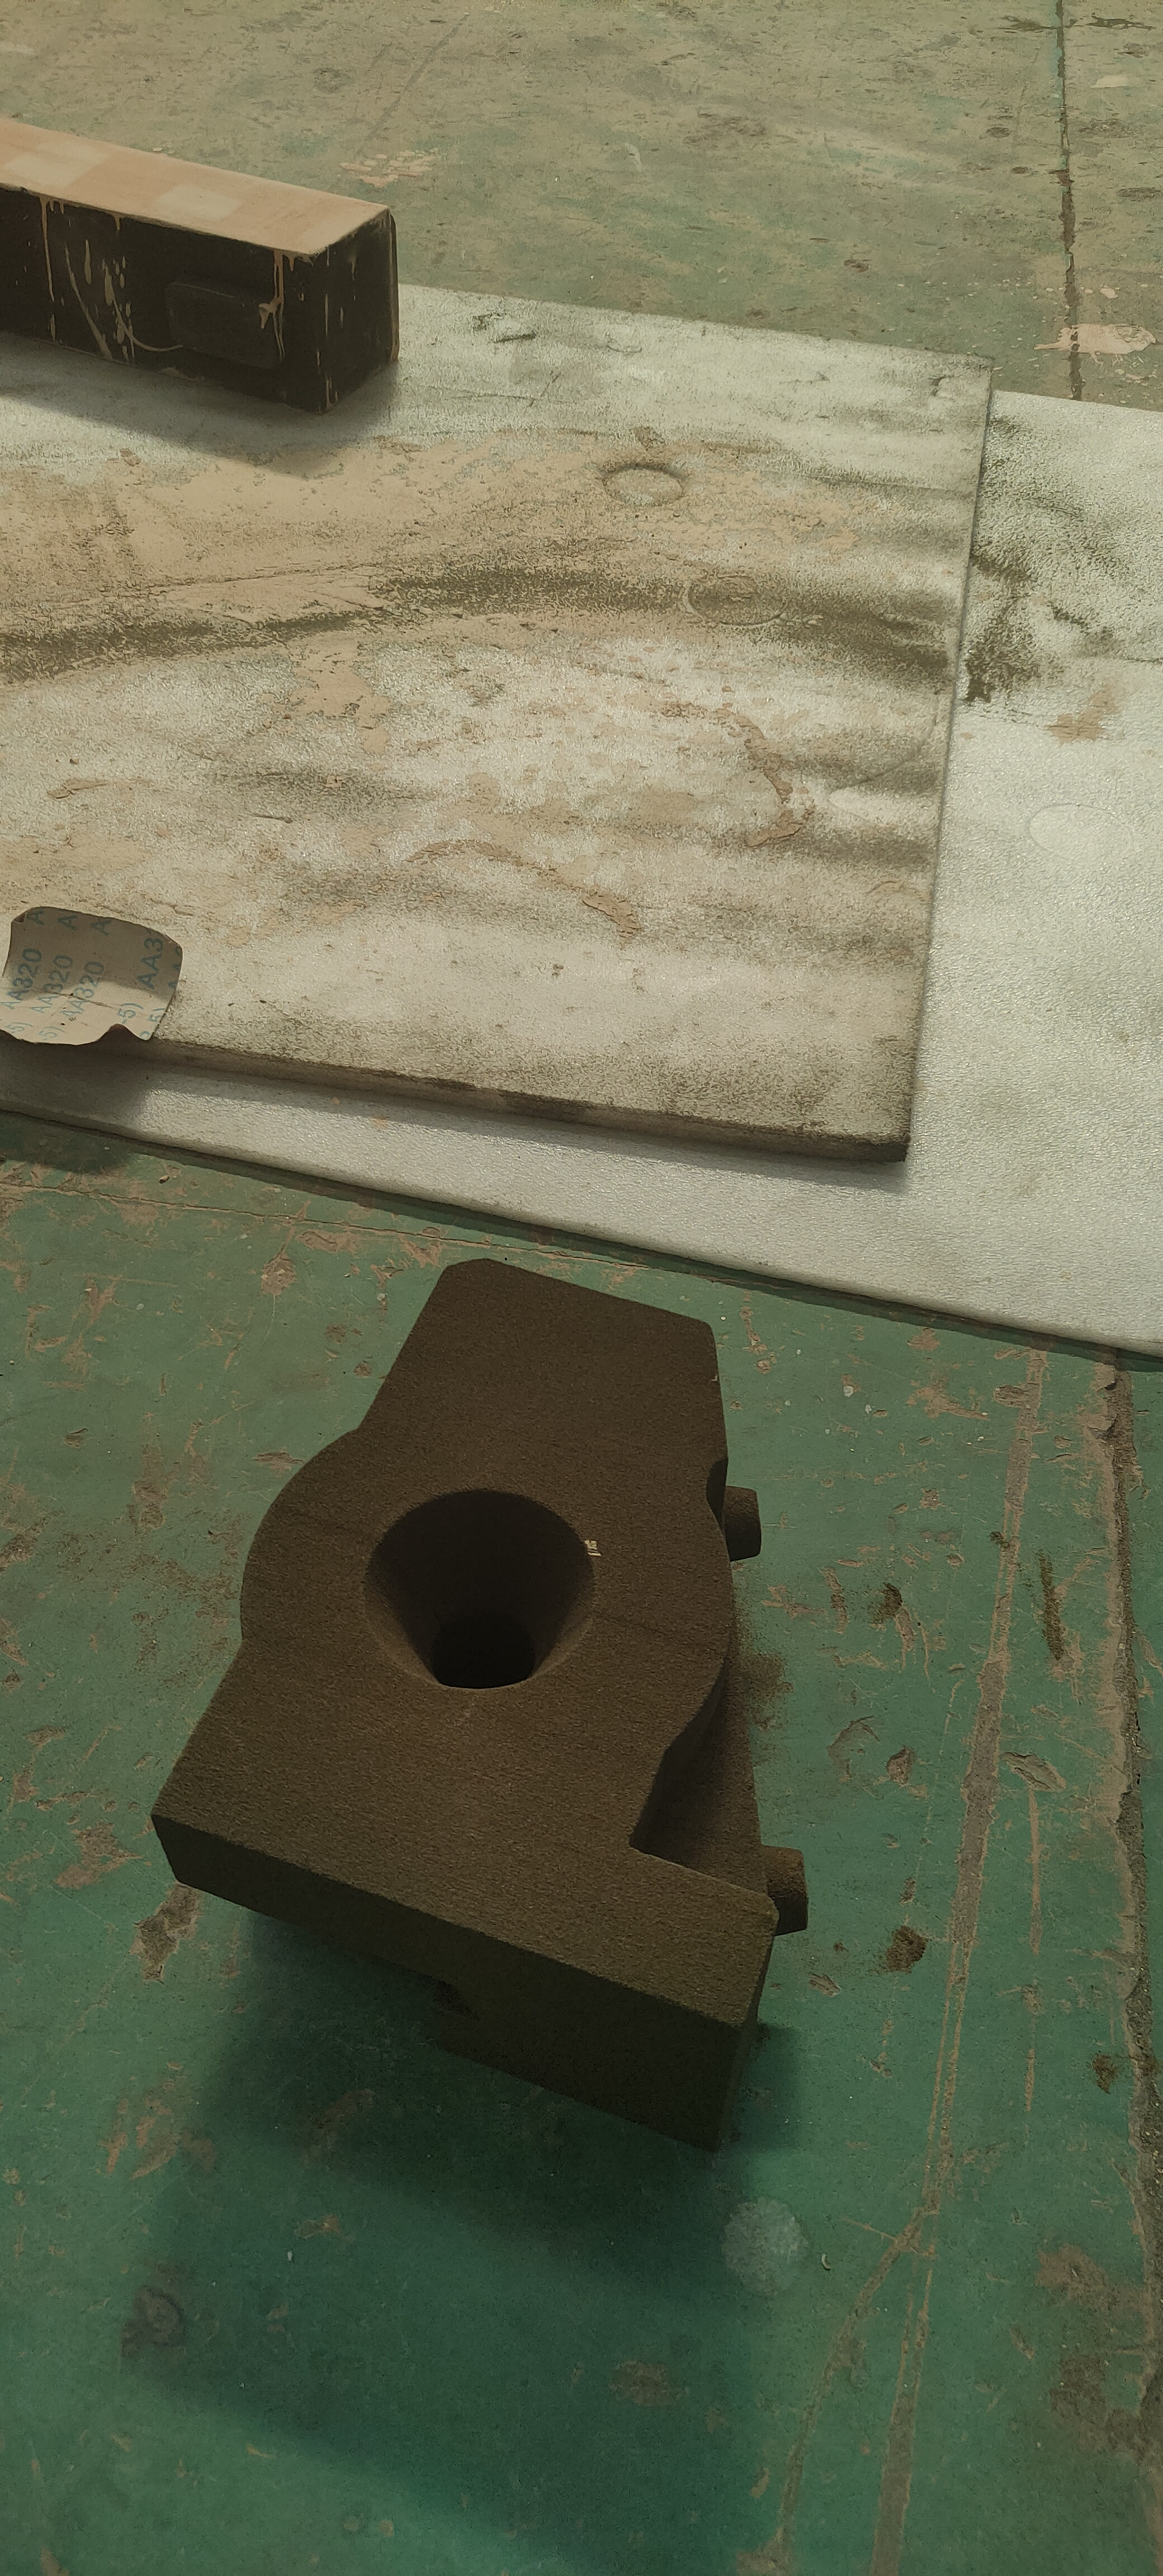pouring hole: (368, 1487, 600, 1689)
